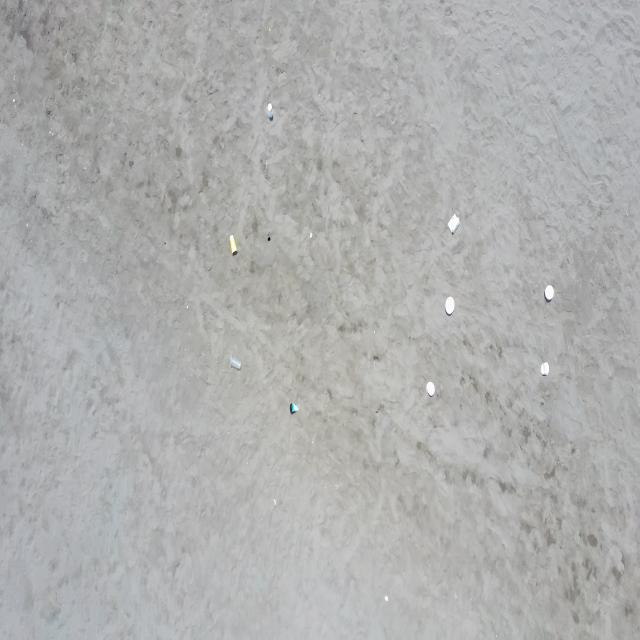take-away-containers: (448, 213, 460, 234), (445, 296, 455, 314), (544, 284, 554, 301), (540, 362, 550, 376), (426, 382, 435, 396)
takeaway-cup: (230, 353, 242, 371), (229, 234, 237, 255), (267, 102, 274, 120), (290, 403, 299, 414)
